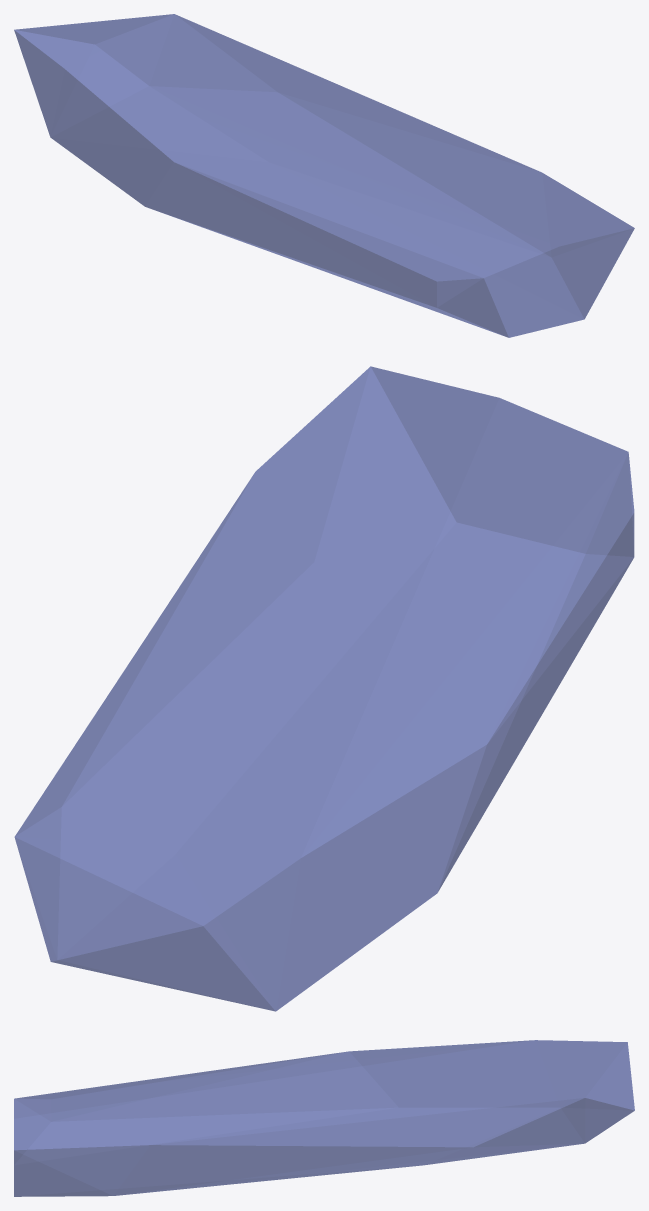
3 renders of one model, top to bottom at view 1: azimuth 30°, elevation 25°; view 2: azimuth 150°, elevation 25°; view 3: azimuth 270°, elevation 25°, orthographic. The views are drawn at different scales.
Visible parts, largest first — view 1: Shape_IndexedFaceSet.025_Shape_IndexedFaceSet.6207; view 2: Shape_IndexedFaceSet.025_Shape_IndexedFaceSet.6207; view 3: Shape_IndexedFaceSet.025_Shape_IndexedFaceSet.6207.
Boxes of the visible parts, left/top/right/bottom form: Shape_IndexedFaceSet.025_Shape_IndexedFaceSet.6207: left=14, top=14, right=634, bottom=337; Shape_IndexedFaceSet.025_Shape_IndexedFaceSet.6207: left=14, top=366, right=634, bottom=1011; Shape_IndexedFaceSet.025_Shape_IndexedFaceSet.6207: left=14, top=1040, right=634, bottom=1196.
Size of the model in its own units: 0.0492 by 0.0141 by 0.1172.
